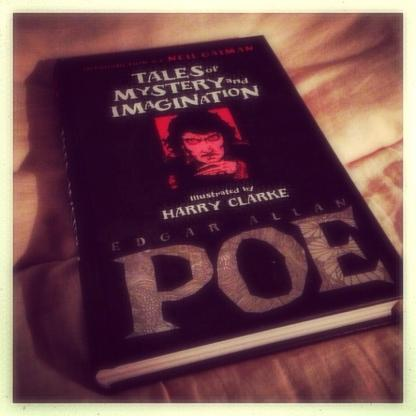book: (54, 34, 402, 393)
